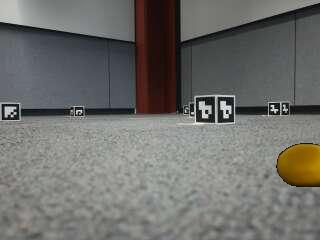lemon: (278, 145, 320, 187)
